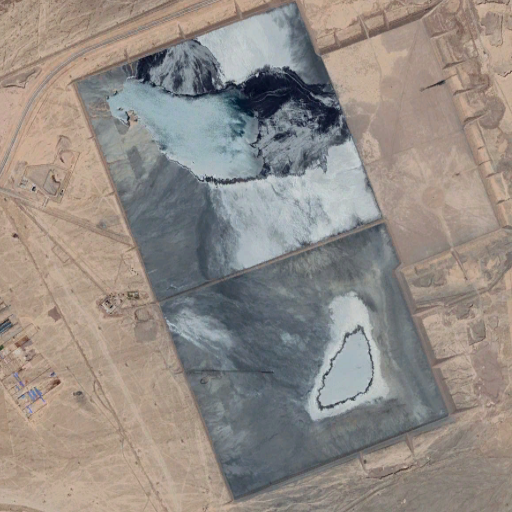tp: (73, 3, 509, 505)
